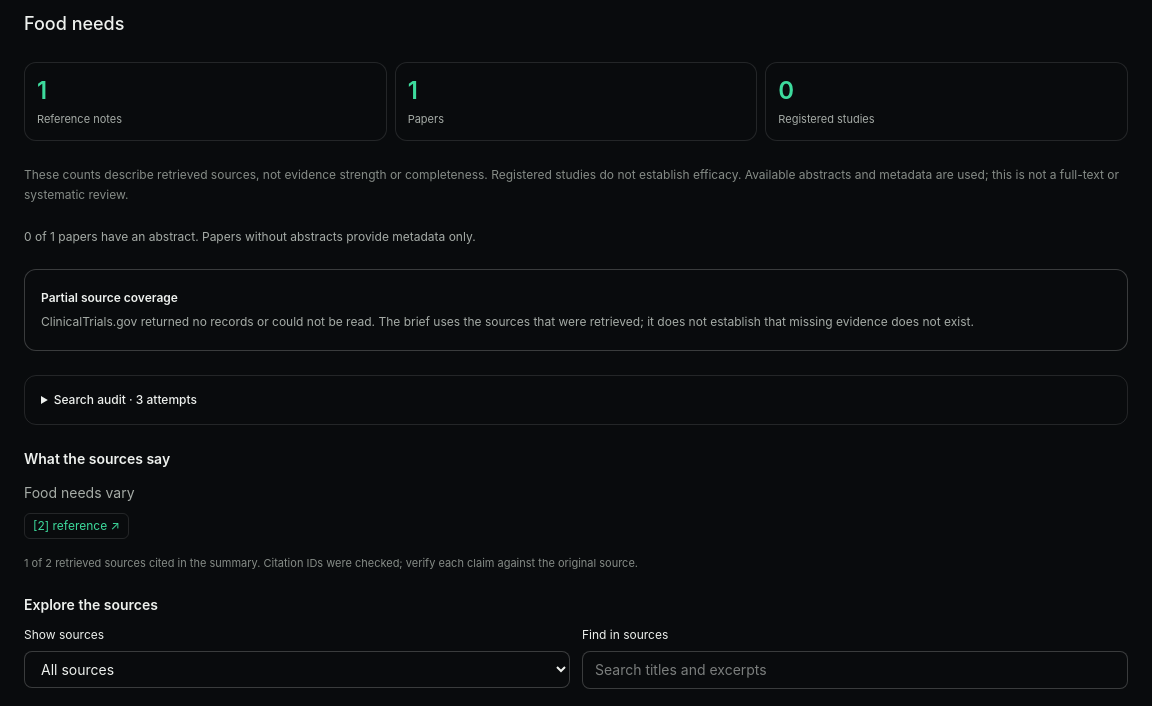
Test: research evidence explorer › filters evidence while preserving citation numbers and the export
Select "Cited in answer" in the dropdown labelled "Show sources". click: (297, 670)
box: [24,651,570,688]
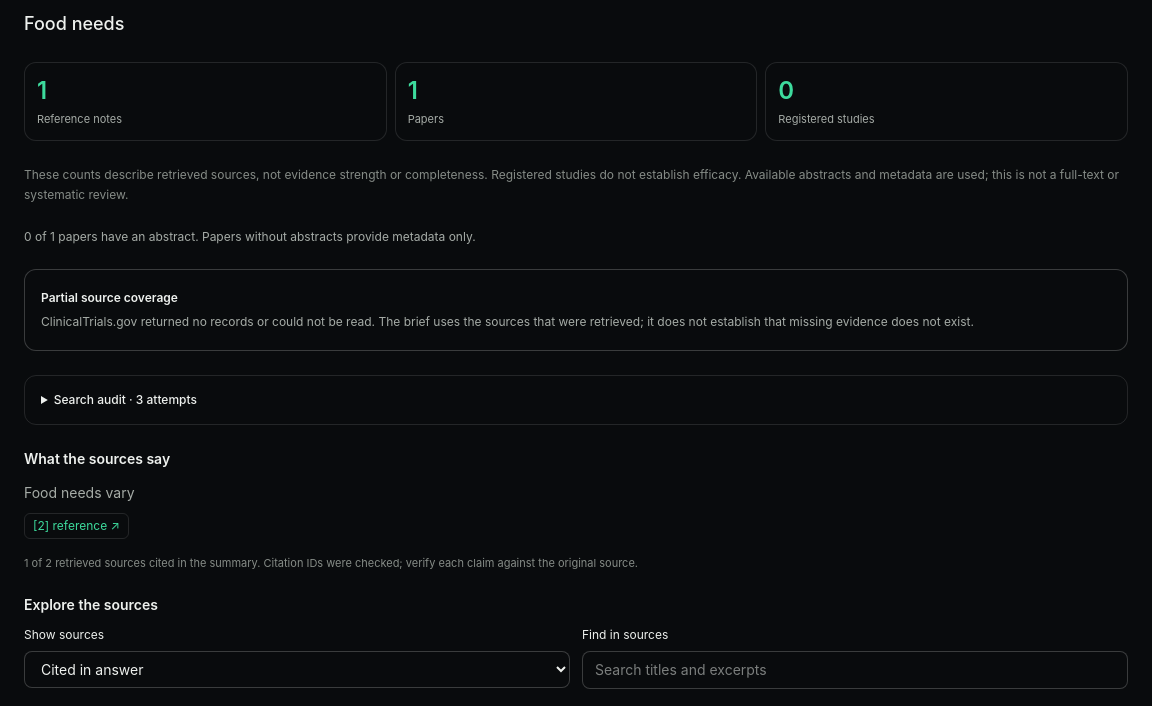
Type "unmatched" into the search field labelled "Find in sources". click: (855, 670)
box: [582,651,1128,689]
(page scrolled)
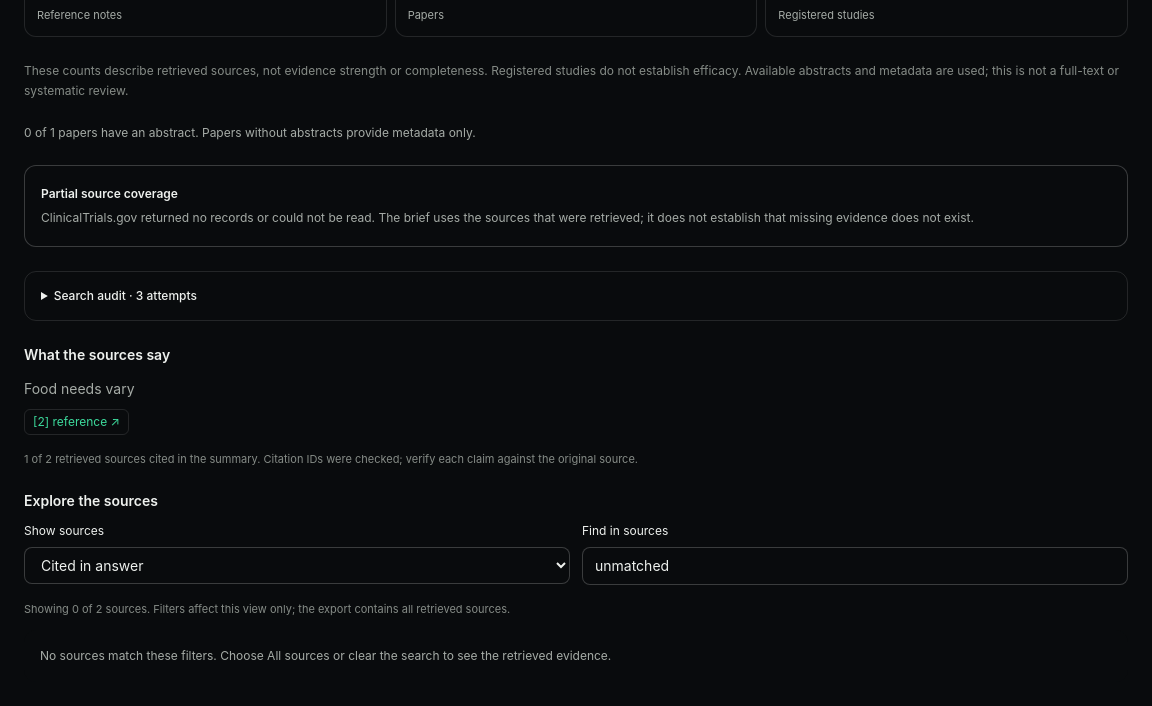
expect the text "No sources match these filters" is shown: met, box [40,648,611,662]
